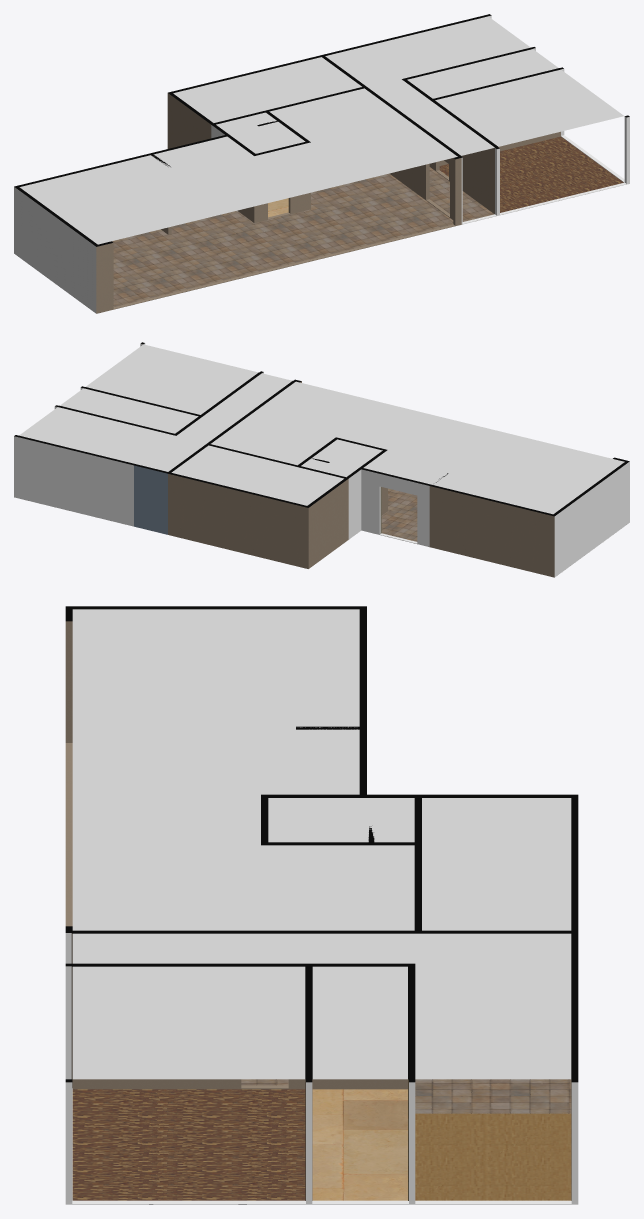
The picture shows the model from 3 angles, top to bottom: view 1: azimuth 30°, elevation 25°; view 2: azimuth 150°, elevation 25°; view 3: azimuth 270°, elevation 25°; orthographic projection. The views are drawn at different scales.
Visible parts, largest first — view 1: geometry_ceiling.138, geometry_rs-13613.022, geometry_rs-13504.001, geometry_wall.2668, geometry_wall.2675, geometry_wall.2673, geometry_wallTop.3851, geometry_wall.2670, geometry_wall.2667, geometry_wall.2672; view 2: geometry_ceiling.138, geometry_wall.2674, geometry_wall.2664, geometry_wall.2671, geometry_wall.2668, geometry_wall.2663, geometry_wall.2670, geometry_#3F5169.006, geometry_wallTop.3851, geometry_rs-13613.022, geometry_wall.2669; view 3: geometry_ceiling.138, geometry_rs-13504.001, geometry_rs-2547.001, geometry_rs-625.006, geometry_wallTop.3851, geometry_rs-13613.022, geometry_wall.2662, geometry_wall.2673, geometry_#3D3D3C.137, geometry_wall.2666, geometry_wall.2675, geometry_wall.2665 (+5 smaller).
Part boxes in pixels (x1=…): geometry_ceiling.138: x1=19, y1=16, x2=624, y2=244; geometry_rs-13613.022: x1=112, y1=167, x2=493, y2=306; geometry_rs-13504.001: x1=439, y1=136, x2=623, y2=212; geometry_wall.2668: x1=14, y1=187, x2=96, y2=313; geometry_wall.2675: x1=161, y1=131, x2=560, y2=234; geometry_wall.2673: x1=96, y1=158, x2=461, y2=313; geometry_wallTop.3851: x1=151, y1=47, x2=561, y2=166; geometry_wall.2670: x1=167, y1=93, x2=211, y2=148; geometry_wall.2667: x1=498, y1=116, x2=629, y2=215; geometry_wall.2672: x1=461, y1=148, x2=498, y2=224; geometry_ceiling.138: x1=19, y1=344, x2=624, y2=514; geometry_wall.2674: x1=168, y1=474, x2=308, y2=568; geometry_wall.2664: x1=429, y1=486, x2=554, y2=577; geometry_wall.2671: x1=14, y1=436, x2=133, y2=526; geometry_wall.2668: x1=554, y1=461, x2=629, y2=577; geometry_wall.2663: x1=361, y1=469, x2=429, y2=546; geometry_wall.2670: x1=308, y1=479, x2=348, y2=568; geometry_#3F5169.006: x1=134, y1=465, x2=167, y2=534; geometry_wallTop.3851: x1=57, y1=372, x2=448, y2=485; geometry_rs-13613.022: x1=381, y1=488, x2=417, y2=541; geometry_wall.2669: x1=348, y1=470, x2=361, y2=539; geometry_ceiling.138: x1=72, y1=609, x2=571, y2=1079; geometry_rs-13504.001: x1=72, y1=1089, x2=305, y2=1200; geometry_rs-2547.001: x1=415, y1=1113, x2=571, y2=1200; geometry_rs-625.006: x1=312, y1=1089, x2=407, y2=1200; geometry_wallTop.3851: x1=69, y1=726, x2=574, y2=1204; geometry_rs-13613.022: x1=241, y1=1079, x2=571, y2=1113; geometry_wall.2662: x1=65, y1=1082, x2=308, y2=1204; geometry_wall.2673: x1=65, y1=621, x2=72, y2=926; geometry_#3D3D3C.137: x1=71, y1=966, x2=305, y2=1089; geometry_wall.2666: x1=411, y1=1082, x2=578, y2=1204; geometry_wall.2675: x1=71, y1=933, x2=407, y2=1200; geometry_wall.2665: x1=309, y1=1082, x2=411, y2=1204.
Bounding box in the file's own units: 23.35 × 2.8 × 10.63.
11 materials, 7 textured.
